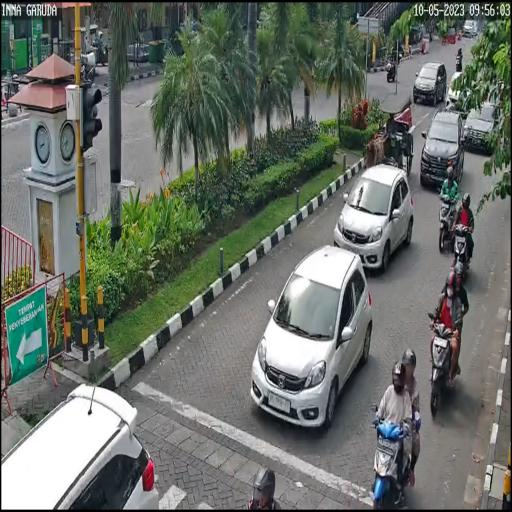mobil: (251, 243, 373, 433), (332, 164, 415, 272), (420, 110, 465, 193), (464, 94, 497, 154), (412, 60, 448, 107)
motor: (371, 404, 413, 512), (426, 309, 463, 420), (435, 184, 462, 253), (452, 218, 476, 271)
